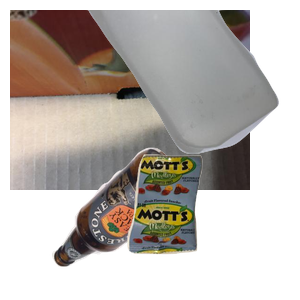cardboard: (10, 10, 250, 190)
glass: (49, 145, 229, 300)
plastic: (84, 10, 300, 157)
trash: (125, 152, 300, 300)
